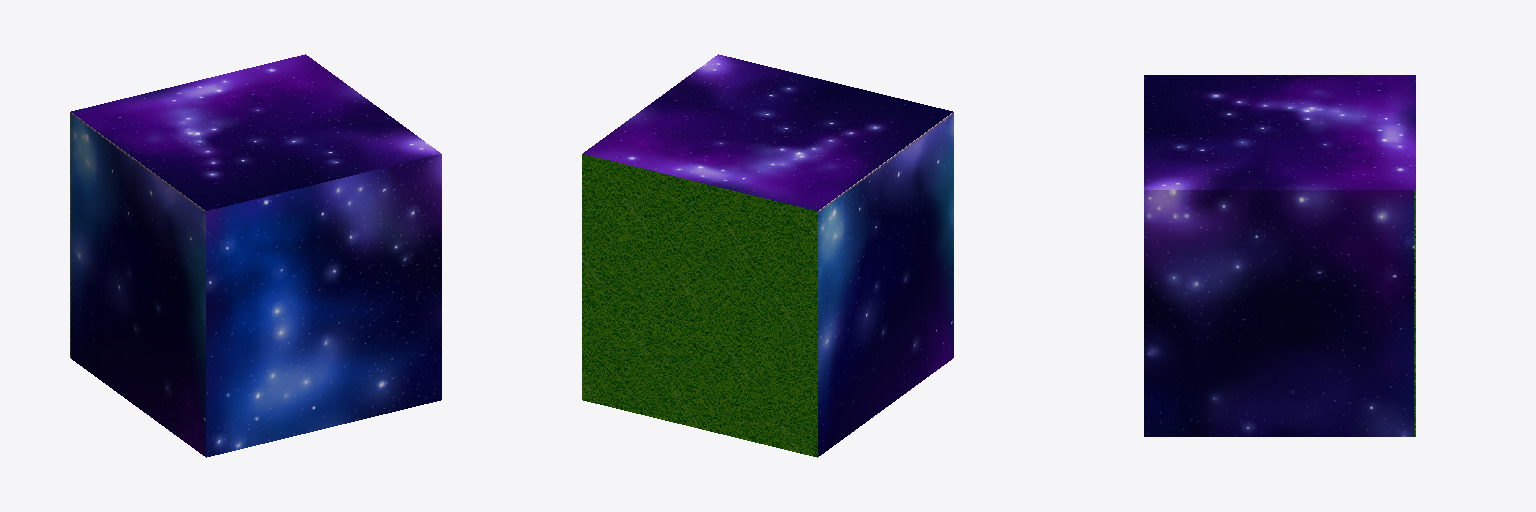
The picture shows the model from 3 angles: view 1: azimuth 30°, elevation 25°; view 2: azimuth 150°, elevation 25°; view 3: azimuth 270°, elevation 25°; orthographic projection.
Parts seen in each view (by area): view 1: Cube; view 2: Cube; view 3: Cube.
Part boxes in pixels (x1,y1,x2,y2): Cube: (70, 54, 441, 457); Cube: (582, 54, 953, 457); Cube: (1144, 75, 1415, 436).
Size of the model in its own units: 2 by 2 by 2.
1 materials, 1 textured.